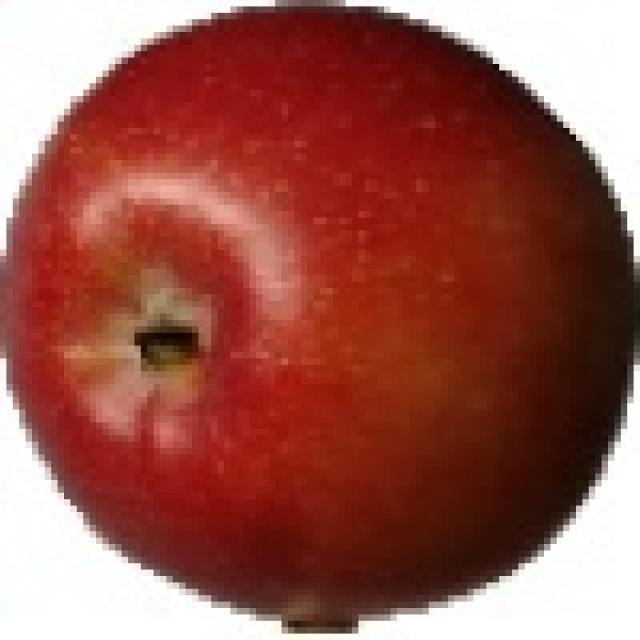apple: (13, 15, 633, 618)
